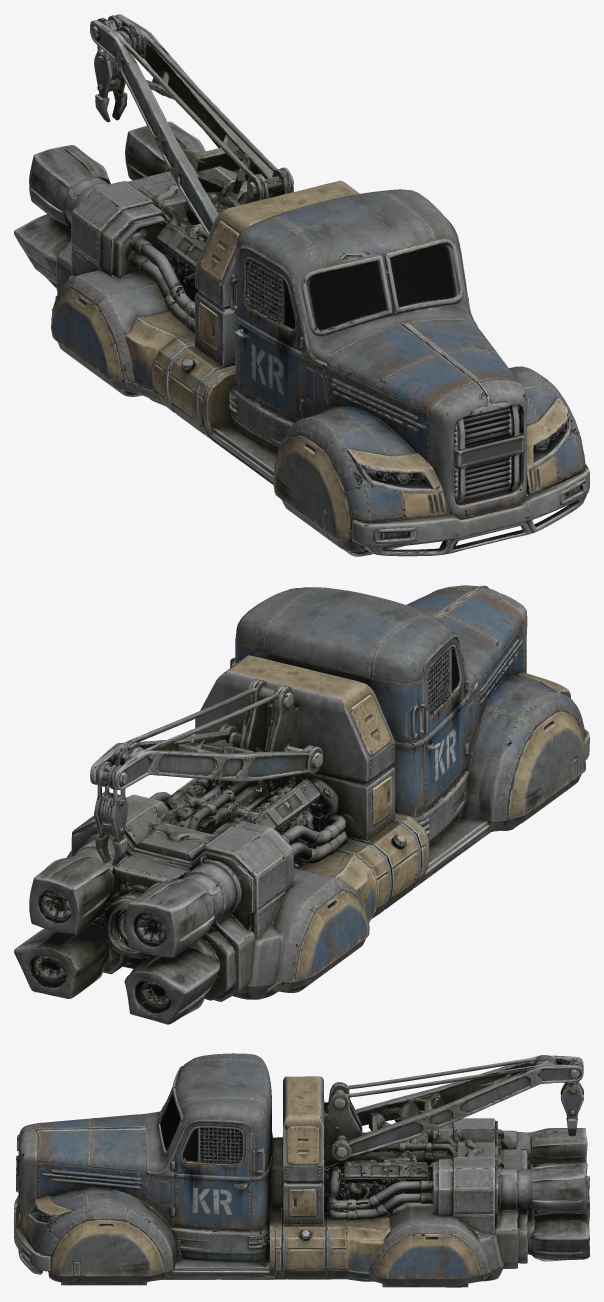
Rendered from ironclad_wrecker_browser.v2.glb.
3 renders of one model, top to bottom at view 1: azimuth 30°, elevation 25°; view 2: azimuth 150°, elevation 25°; view 3: azimuth 270°, elevation 25°, orthographic. The views are drawn at different scales.
Parts seen in each view (by area): view 1: ironclad_wrecker; view 2: ironclad_wrecker; view 3: ironclad_wrecker.
Boxes of the visible parts, x1,y1,x2,y2 form: ironclad_wrecker: (14,14,589,556); ironclad_wrecker: (14,585,589,1024); ironclad_wrecker: (14,1053,589,1287).
Size of the model in its own units: 5.35 by 5.18 by 14.01.
1 material, 1 textured.
